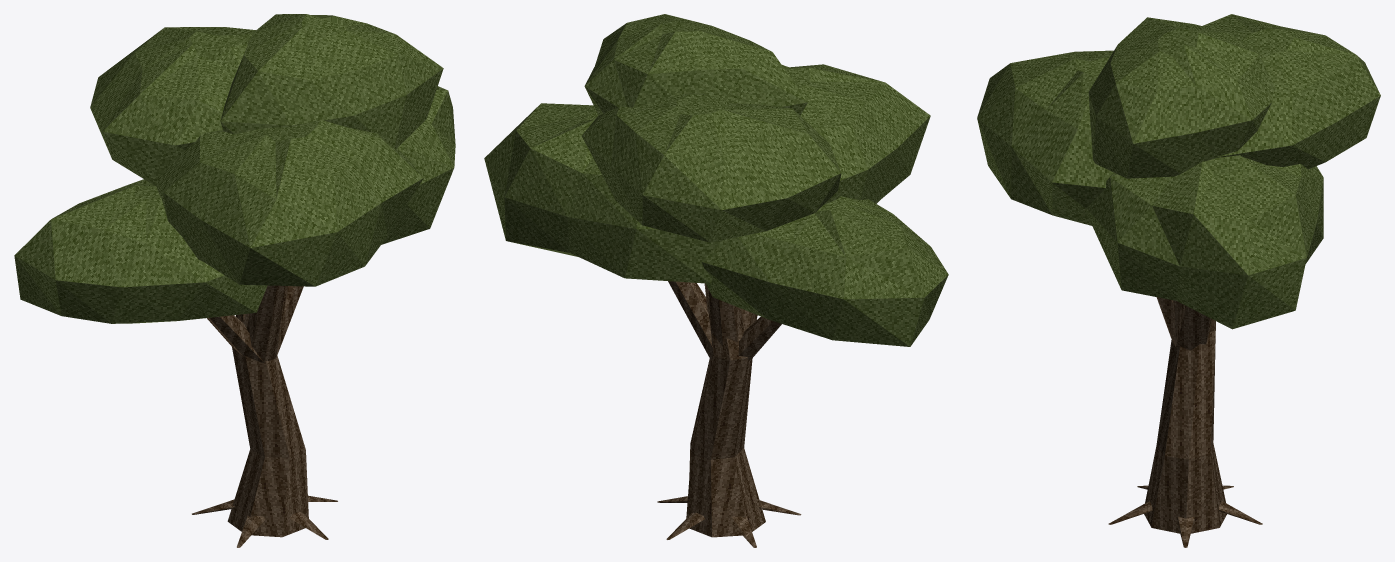
File: oak.glb
3 views of the same model, side by side, from view 1: azimuth 30°, elevation 25°; view 2: azimuth 150°, elevation 25°; view 3: azimuth 270°, elevation 25° (orthographic). The views are drawn at different scales.
Parts seen in each view (by area): view 1: Oak_AsymmetricCrown, Oak_BranchedTrunk; view 2: Oak_AsymmetricCrown, Oak_BranchedTrunk; view 3: Oak_AsymmetricCrown, Oak_BranchedTrunk.
Boxes of the visible parts, bbox=[...] form: Oak_AsymmetricCrown: bbox=[14, 14, 455, 323]; Oak_BranchedTrunk: bbox=[192, 285, 337, 547]; Oak_AsymmetricCrown: bbox=[484, 14, 948, 346]; Oak_BranchedTrunk: bbox=[657, 281, 801, 547]; Oak_AsymmetricCrown: bbox=[977, 14, 1380, 329]; Oak_BranchedTrunk: bbox=[1108, 297, 1262, 547].
Bounding box in the file's own units: 5.19 × 5.5 × 3.98.
2 materials, 2 textured.
